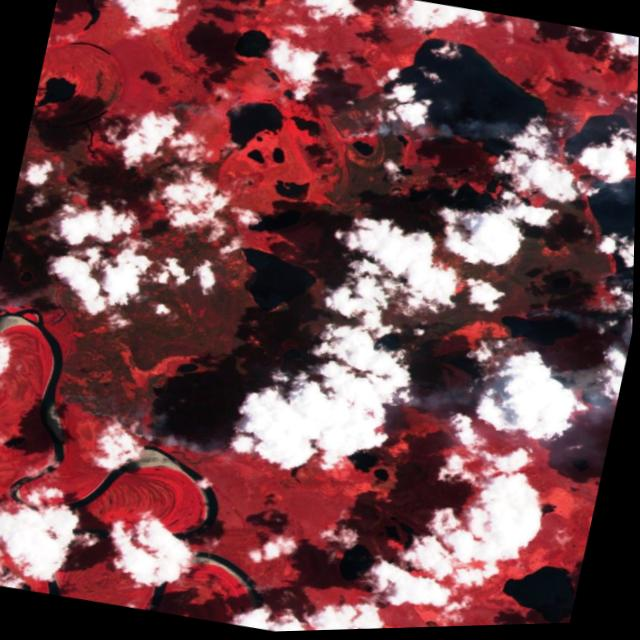fire: (384, 239, 636, 472), (29, 374, 265, 483), (320, 103, 476, 182), (137, 82, 222, 140)
